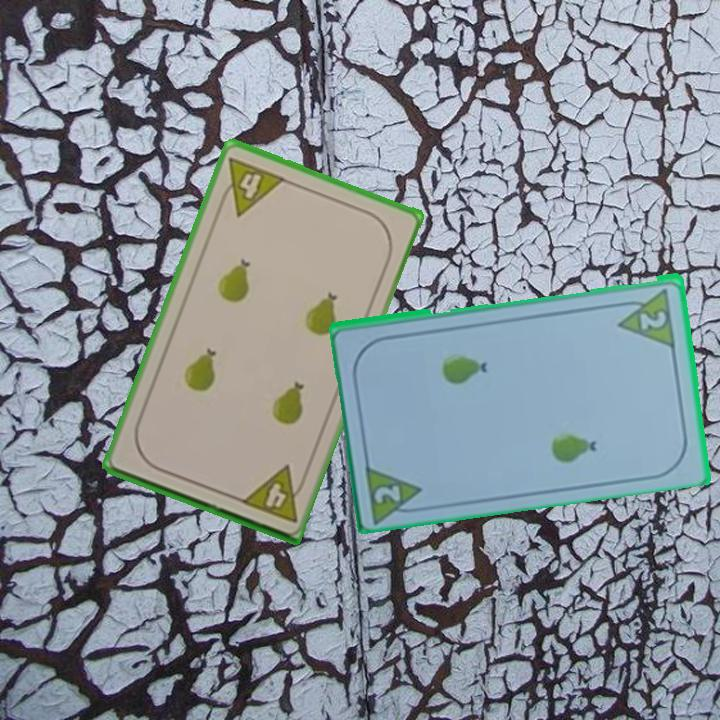2p: (370, 480, 404, 507), (637, 305, 670, 332)
4p: (213, 153, 288, 219), (237, 462, 310, 525)
